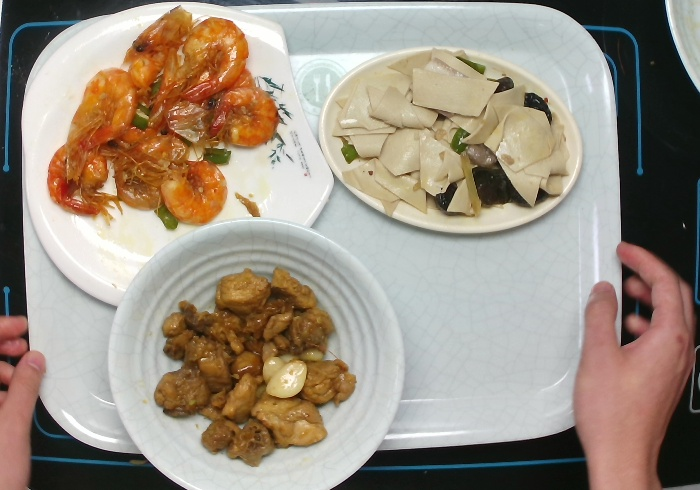JYsf-Mian_Pan: (18, 1, 333, 311)
JYsf-Tuo_Yuan_Wan: (320, 42, 589, 244)
JYsf-Xiao_Tang_Wan: (100, 216, 406, 490)
